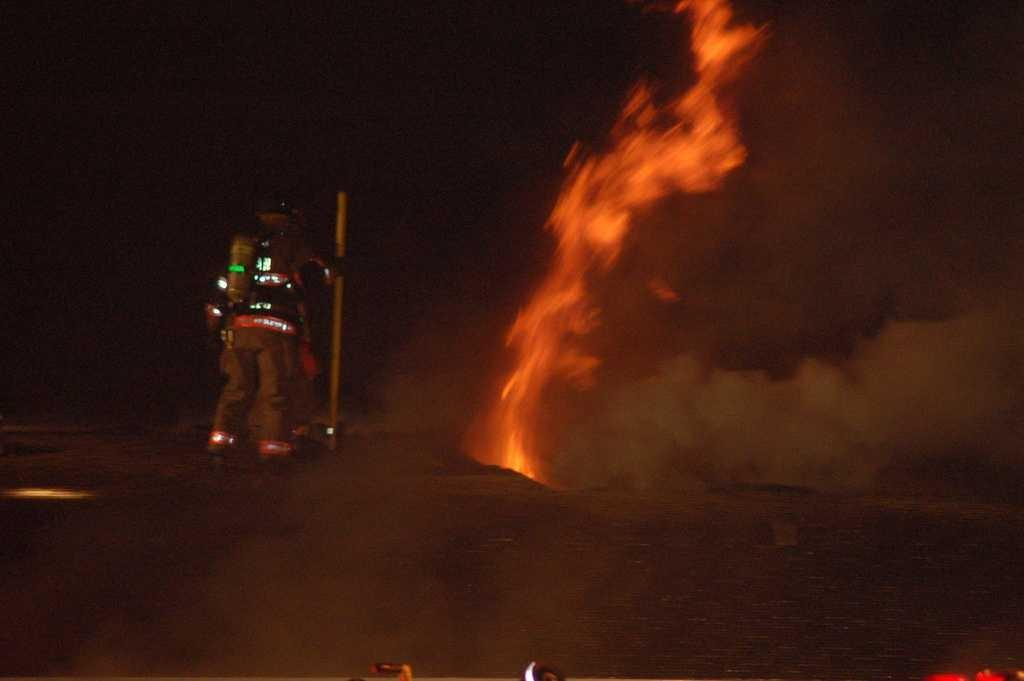fire: (567, 7, 765, 222), (465, 243, 630, 443)
smoke: (752, 310, 982, 498)
